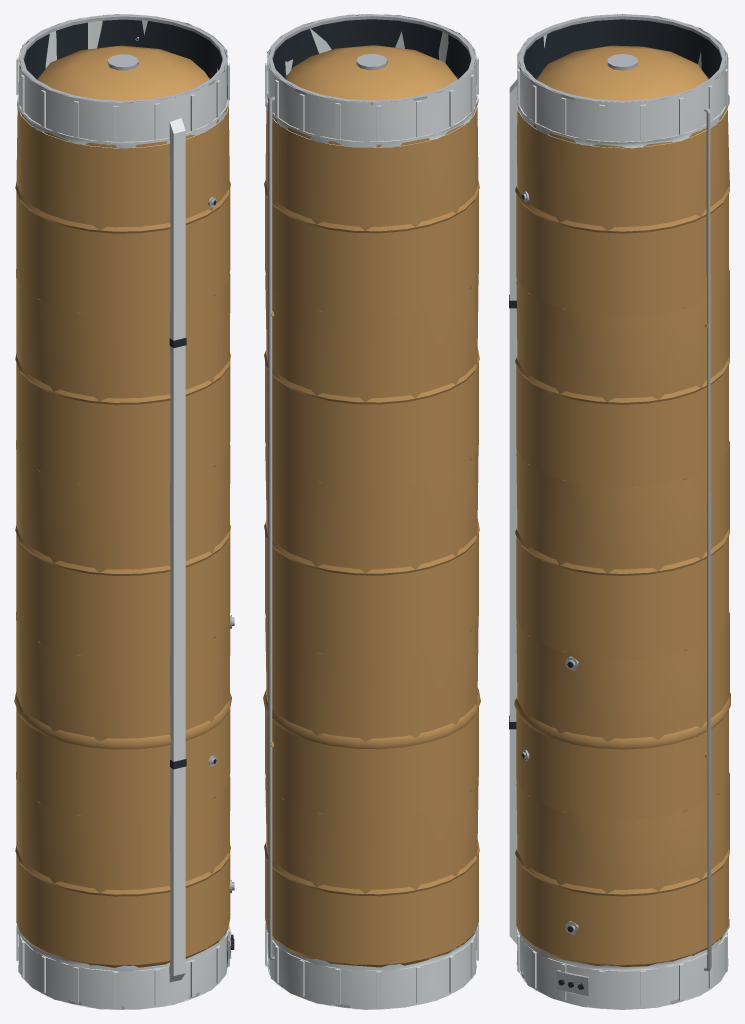
The model's file is tank_s2_m_hydrolox.glb.
3 renders of one model, left to right at view 1: azimuth 30°, elevation 25°; view 2: azimuth 150°, elevation 25°; view 3: azimuth 270°, elevation 25°, orthographic.
Visible parts, largest first — view 1: tank_s2_m_hydrolox_mesh; view 2: tank_s2_m_hydrolox_mesh; view 3: tank_s2_m_hydrolox_mesh.
Part boxes in pixels (bbox=[...]): tank_s2_m_hydrolox_mesh: bbox=[14, 14, 234, 1009]; tank_s2_m_hydrolox_mesh: bbox=[263, 14, 480, 1009]; tank_s2_m_hydrolox_mesh: bbox=[509, 14, 730, 1009].
Size of the model in its own units: 3.84 by 17.6 by 3.9.
